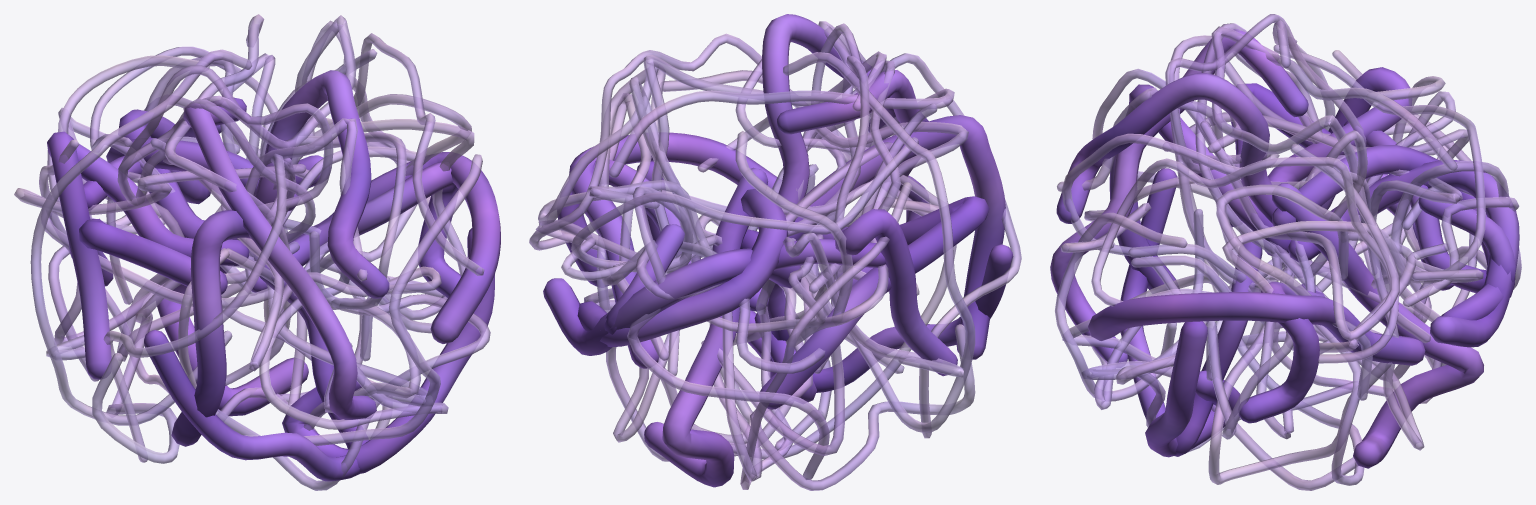
Rendered from chromatin.glb.
3 renders of one model, left to right at view 1: azimuth 30°, elevation 25°; view 2: azimuth 150°, elevation 25°; view 3: azimuth 270°, elevation 25°, orthographic. The views are drawn at different scales.
Visible parts, largest first — view 1: chromatin-fine, chromatin-coarse; view 2: chromatin-fine, chromatin-coarse; view 3: chromatin-coarse, chromatin-fine.
Part boxes in pixels (box(x1,y1,x2,y2)): chromatin-fine: box(14, 14, 490, 490); chromatin-coarse: box(47, 70, 500, 481); chromatin-fine: box(529, 21, 1021, 490); chromatin-coarse: box(543, 14, 1013, 487); chromatin-coarse: box(1050, 29, 1519, 468); chromatin-fine: box(1055, 14, 1521, 490).
Size of what is drawn, in the model's own units: 1.98 by 1.93 by 1.98.
